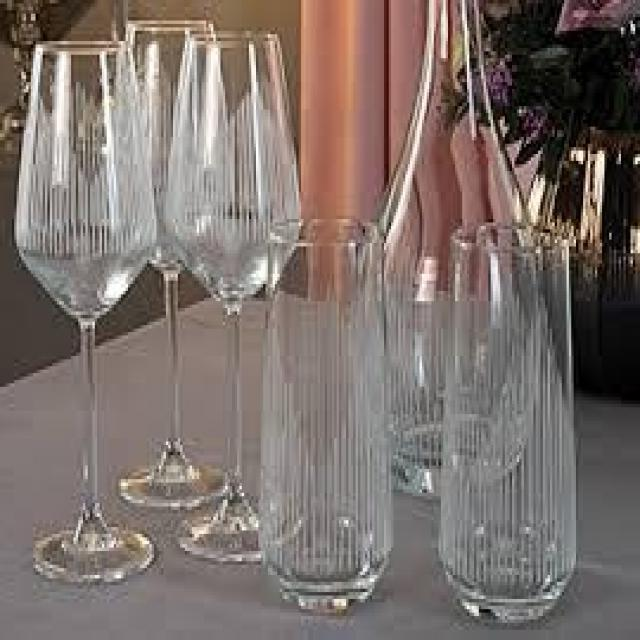glass: (10, 34, 164, 592), (255, 216, 394, 616)
